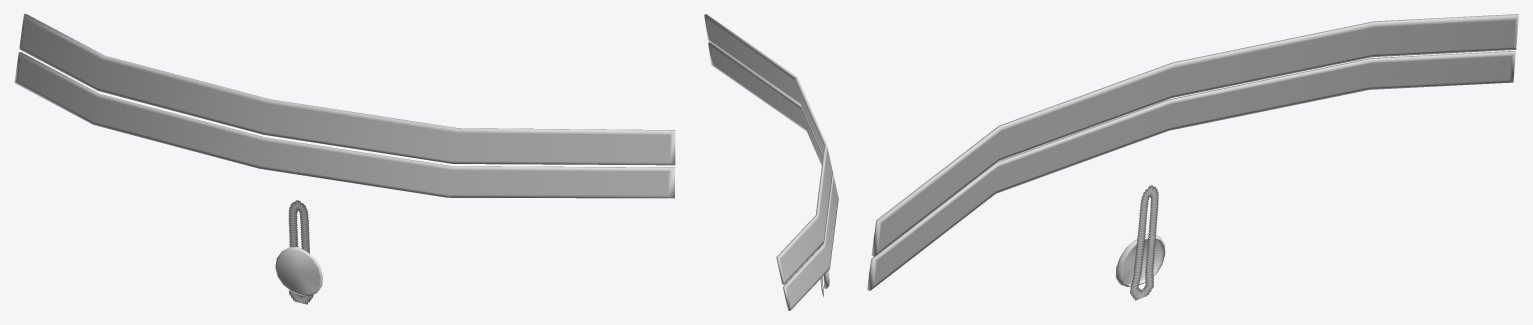
The model's file is single_jetted_pocket_with_button.glb.
The picture shows the model from 3 angles, left to right: view 1: azimuth 30°, elevation 25°; view 2: azimuth 150°, elevation 25°; view 3: azimuth 270°, elevation 25°; orthographic projection. The views are drawn at different scales.
Visible parts, largest first — view 1: SM_T_Right_jetted_pocket, SM_T_B_Right_pocket_without welted; view 2: SM_T_Right_jetted_pocket, SM_T_B_Right_pocket_without welted; view 3: SM_T_Right_jetted_pocket, SM_T_B_Right_pocket_without welted.
Part boxes in pixels (x1=…): SM_T_Right_jetted_pocket: x1=14, y1=14, x2=675, y2=198; SM_T_B_Right_pocket_without welted: x1=275, y1=200, x2=322, y2=304; SM_T_Right_jetted_pocket: x1=704, y1=14, x2=838, y2=310; SM_T_B_Right_pocket_without welted: x1=818, y1=246, x2=829, y2=296; SM_T_Right_jetted_pocket: x1=867, y1=14, x2=1518, y2=290; SM_T_B_Right_pocket_without welted: x1=1115, y1=185, x2=1165, y2=300.
Size of the model in its own units: 0.4619 by 0.2303 by 0.5977.
Materials: 3 (1 with a texture image).
